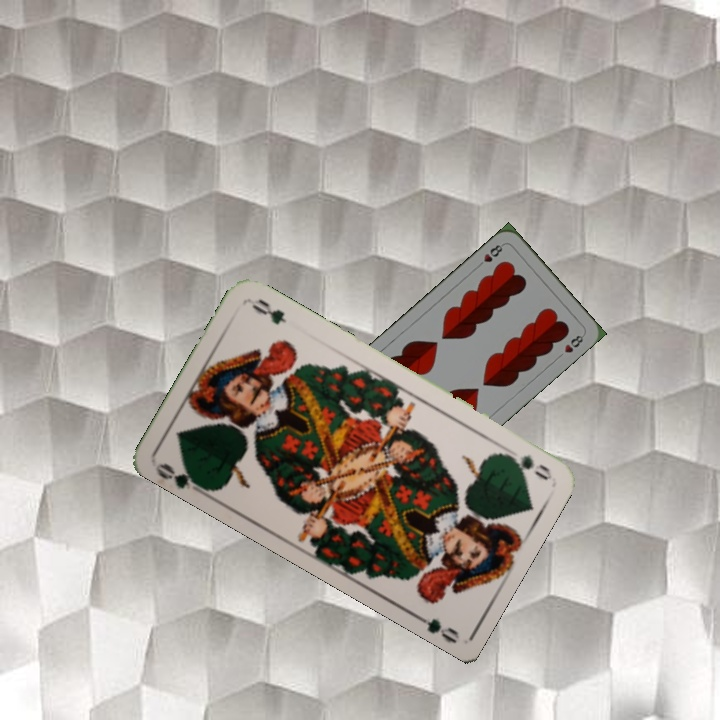GO: (152, 459, 209, 498), (496, 448, 554, 478)
H8: (473, 240, 507, 270)
